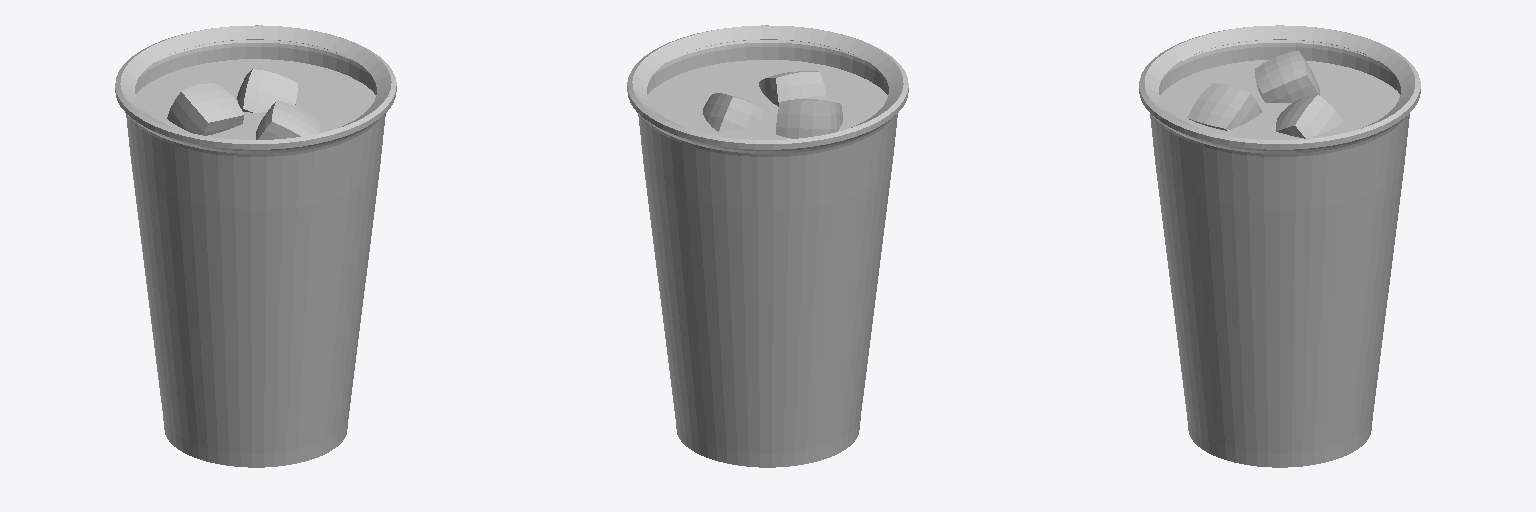
File: cupOBJ.obj
3 views of the same model, side by side, from view 1: azimuth 30°, elevation 25°; view 2: azimuth 150°, elevation 25°; view 3: azimuth 270°, elevation 25° (orthographic).
Visible parts, largest first — view 1: Cup Coca_Cola_Cup, Coca_Cola_Cup Top, Coca_Cola_Cup ice1, Coca_Cola_Cup ice3, Coca_Cola_Cup ice2; view 2: Cup Coca_Cola_Cup, Coca_Cola_Cup Top, Coca_Cola_Cup ice1, Coca_Cola_Cup ice3, Coca_Cola_Cup ice2; view 3: Cup Coca_Cola_Cup, Coca_Cola_Cup Top, Coca_Cola_Cup ice1, Coca_Cola_Cup ice2, Coca_Cola_Cup ice3.
Boxes of the visible parts, x1=… form: Cup Coca_Cola_Cup: x1=115, y1=25, x2=396, y2=467; Coca_Cola_Cup Top: x1=136, y1=59, x2=375, y2=139; Coca_Cola_Cup ice1: x1=167, y1=83, x2=243, y2=135; Coca_Cola_Cup ice3: x1=237, y1=69, x2=297, y2=112; Coca_Cola_Cup ice2: x1=256, y1=100, x2=319, y2=139; Cup Coca_Cola_Cup: x1=627, y1=25, x2=908, y2=467; Coca_Cola_Cup Top: x1=648, y1=60, x2=887, y2=139; Coca_Cola_Cup ice1: x1=776, y1=99, x2=842, y2=138; Coca_Cola_Cup ice3: x1=703, y1=93, x2=771, y2=131; Coca_Cola_Cup ice2: x1=759, y1=71, x2=826, y2=106; Cup Coca_Cola_Cup: x1=1139, y1=25, x2=1420, y2=467; Coca_Cola_Cup Top: x1=1160, y1=60, x2=1399, y2=139; Coca_Cola_Cup ice1: x1=1254, y1=50, x2=1319, y2=102; Coca_Cola_Cup ice2: x1=1188, y1=83, x2=1261, y2=130; Coca_Cola_Cup ice3: x1=1276, y1=95, x2=1343, y2=138.
Size of the model in its own units: 12.93 by 17.65 by 12.9.